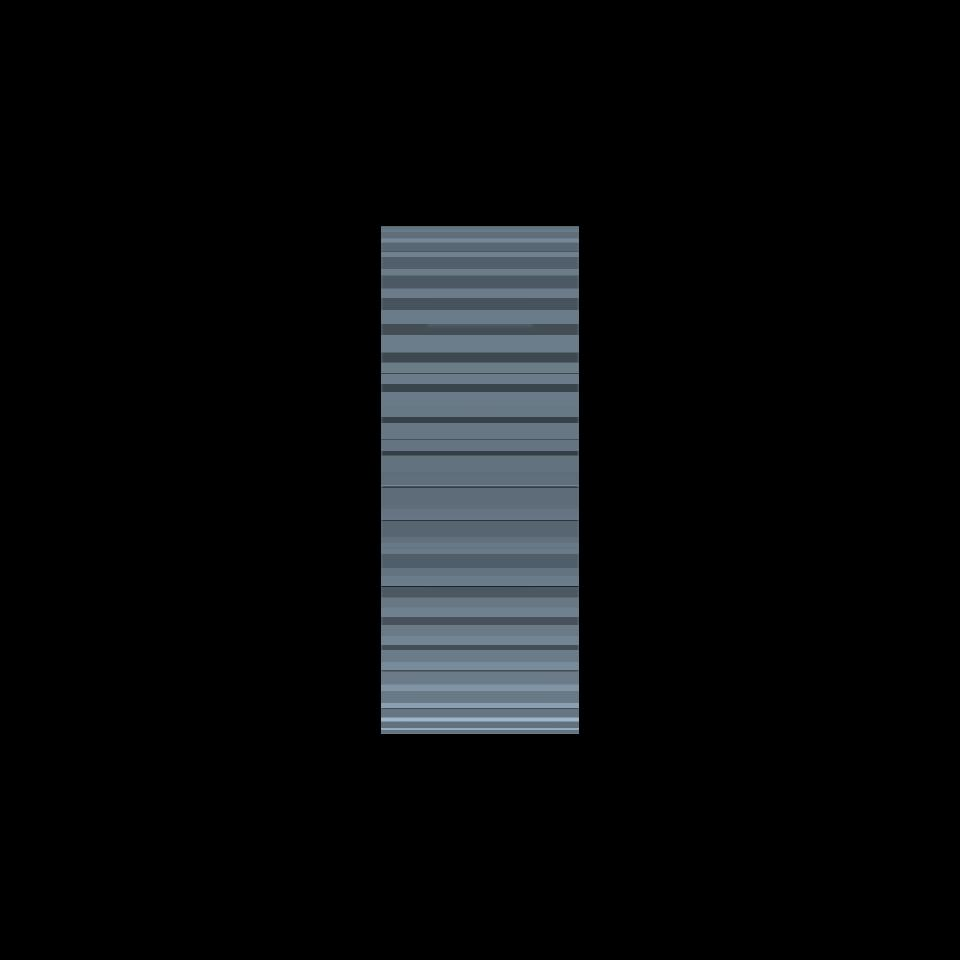Straight: (381, 225, 579, 733)
